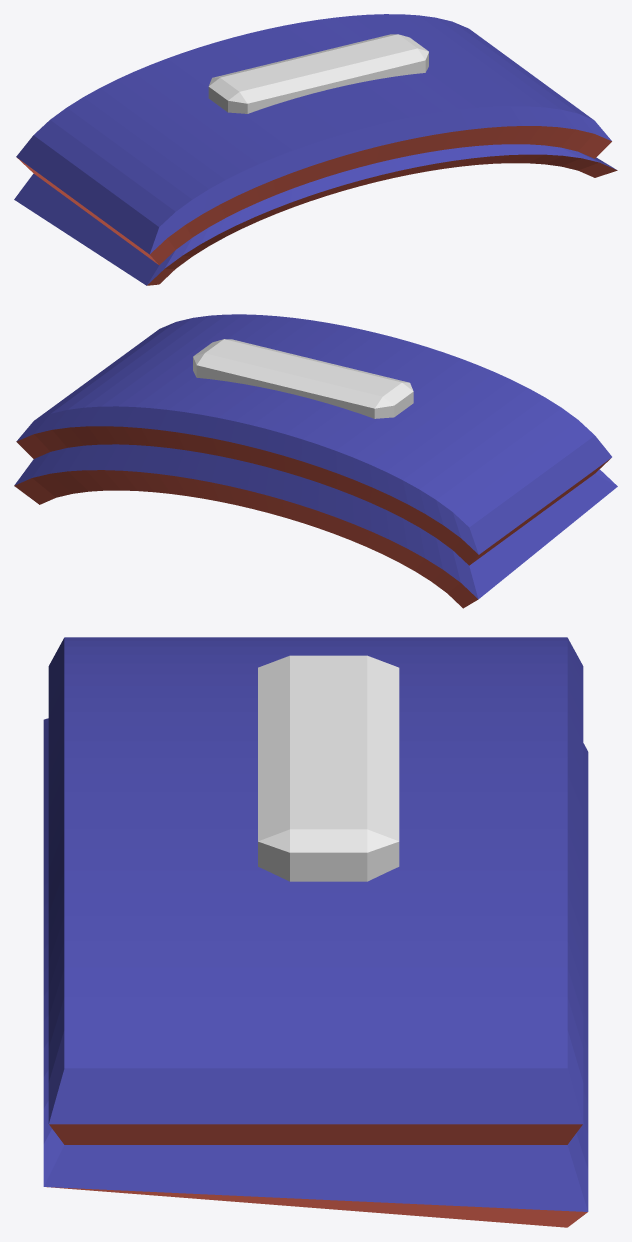
The picture shows the model from 3 angles, top to bottom: view 1: azimuth 30°, elevation 25°; view 2: azimuth 150°, elevation 25°; view 3: azimuth 270°, elevation 25°; orthographic projection. The views are drawn at different scales.
Visible parts, largest first — view 1: Paddle, Brick; view 2: Paddle, Brick; view 3: Paddle, Brick.
Boxes of the visible parts, box(x1,y1,x2,y2) form: Paddle: box(14, 14, 617, 285); Brick: box(208, 34, 428, 113); Paddle: box(14, 314, 617, 608); Brick: box(193, 339, 413, 418); Paddle: box(43, 637, 588, 1227); Brick: box(258, 655, 399, 881).
Size of the model in its own units: 4.33 by 1.26 by 2.16.
